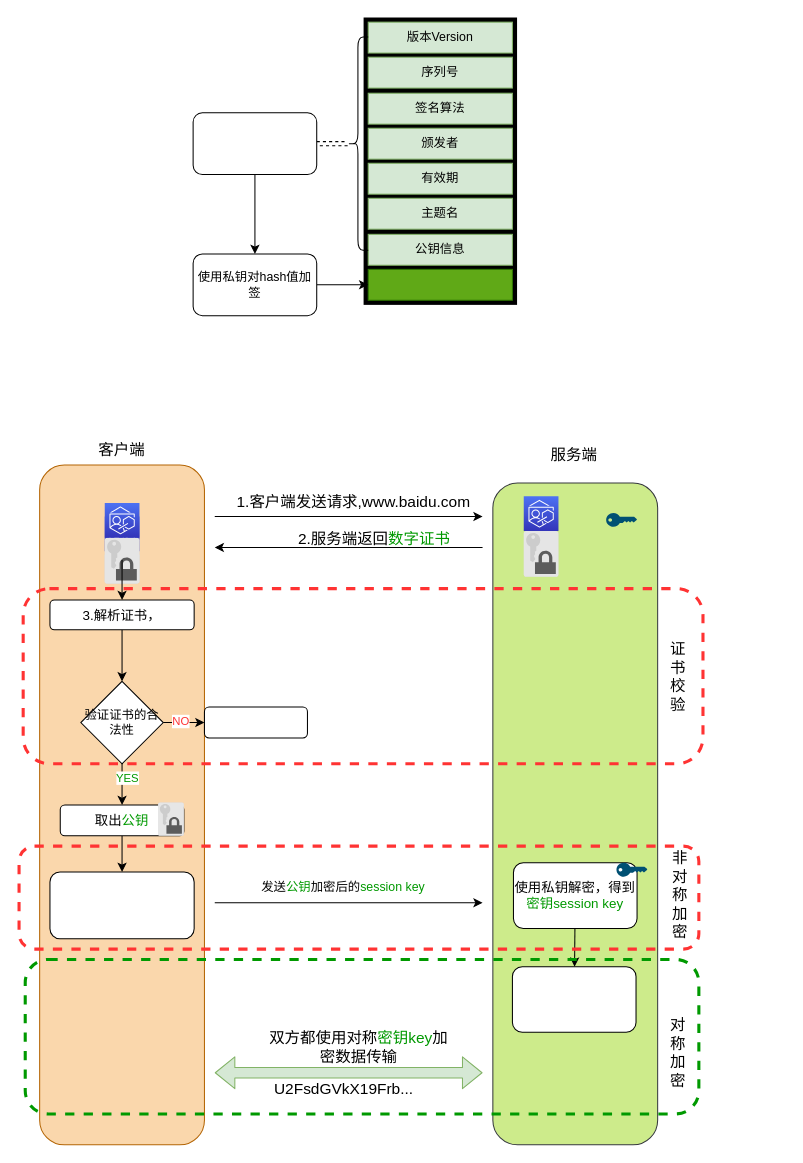
This 803x1163 diagram has some shape labels left out. The shapes that lost their labels are listed below. From the top down, each one's centre as x and y in pixels, then its label:
the point at 254,143: 对该部分做hash
the point at 439,284: 签名
the point at 621,519: 私钥
the point at 255,722: 提示HTTPS警告
the point at 121,905: 生成对称秘钥session key 使用 公钥 加密 session key
the point at 573,999: 使用 密钥session key 加密数据
